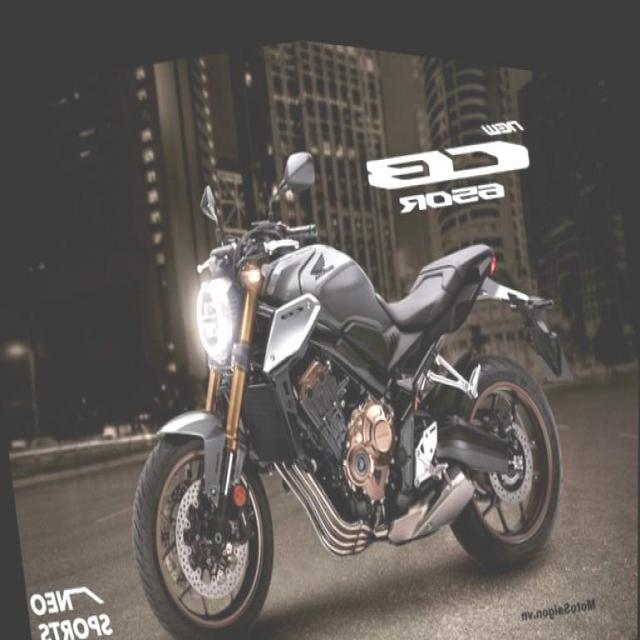CB650R: (84, 44, 599, 638)
